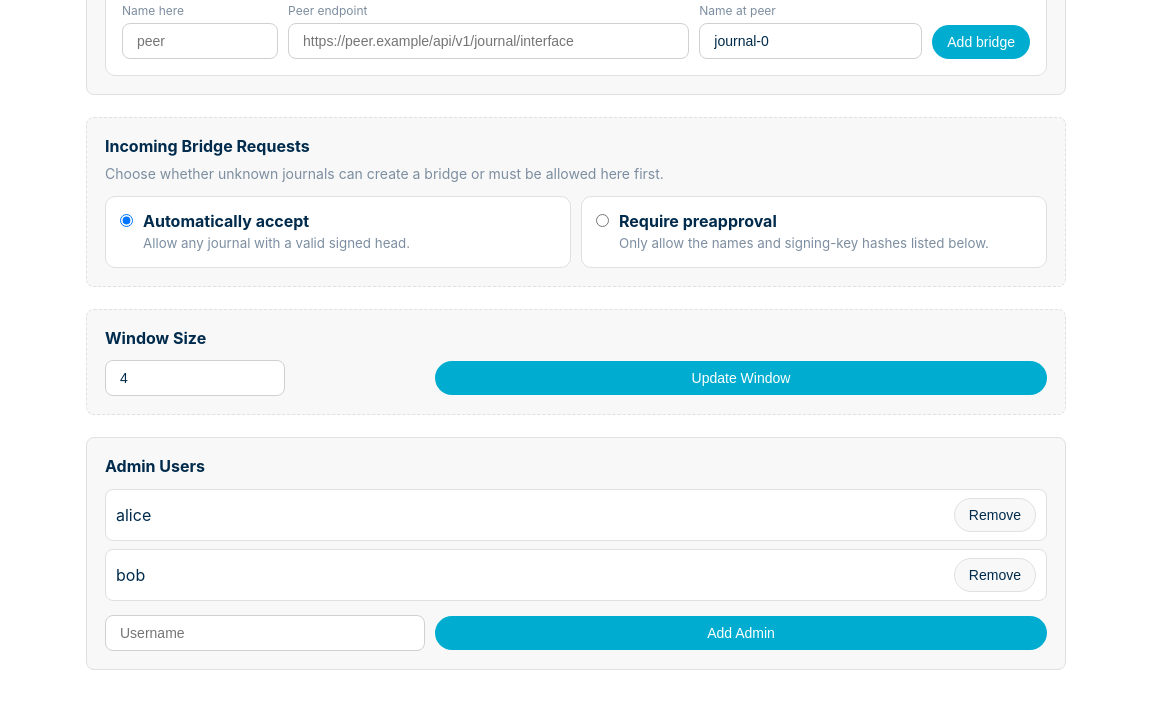
Test: AdminPanel › confirms self-removal when another administrator remains
(page scrolled)
Click the button "Remove" in the row of "alice" at [995, 515], box 954,498 -> 1036,532
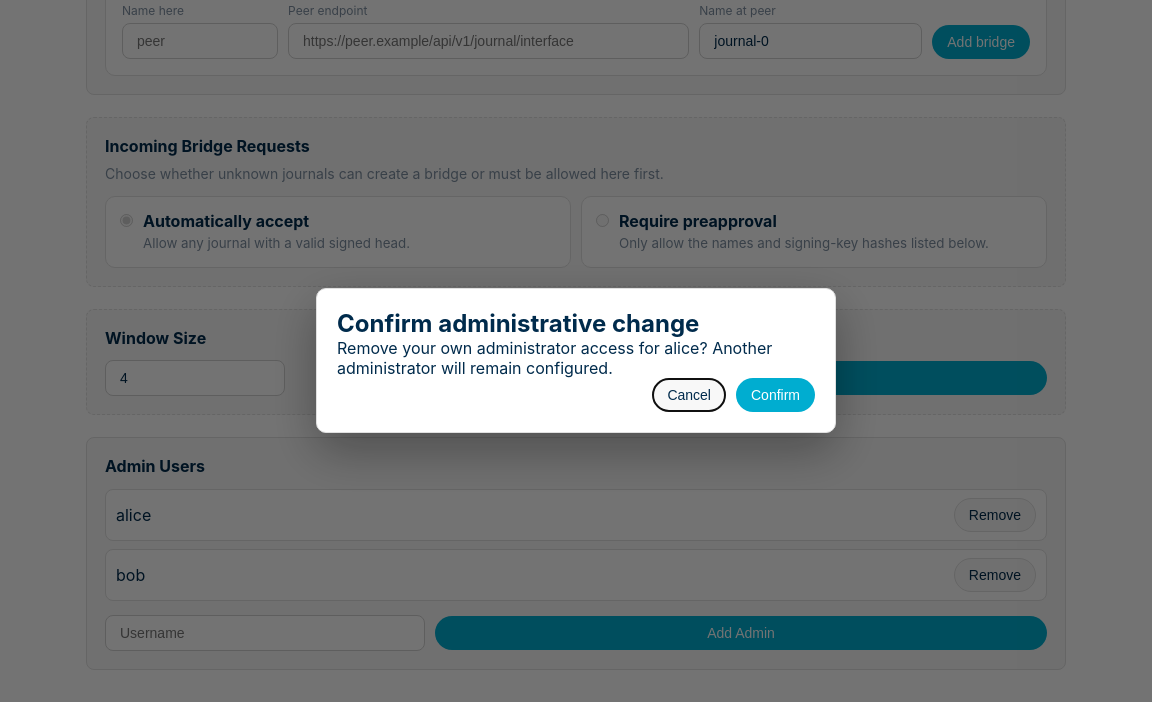
Expected: the dialog shows "Remove your own administrator access for alice? Another administrator will remain configured.", 337,338 -> 772,378
Click the button "Confirm" at [776, 394], box 736,378 -> 815,412
(page scrolled)
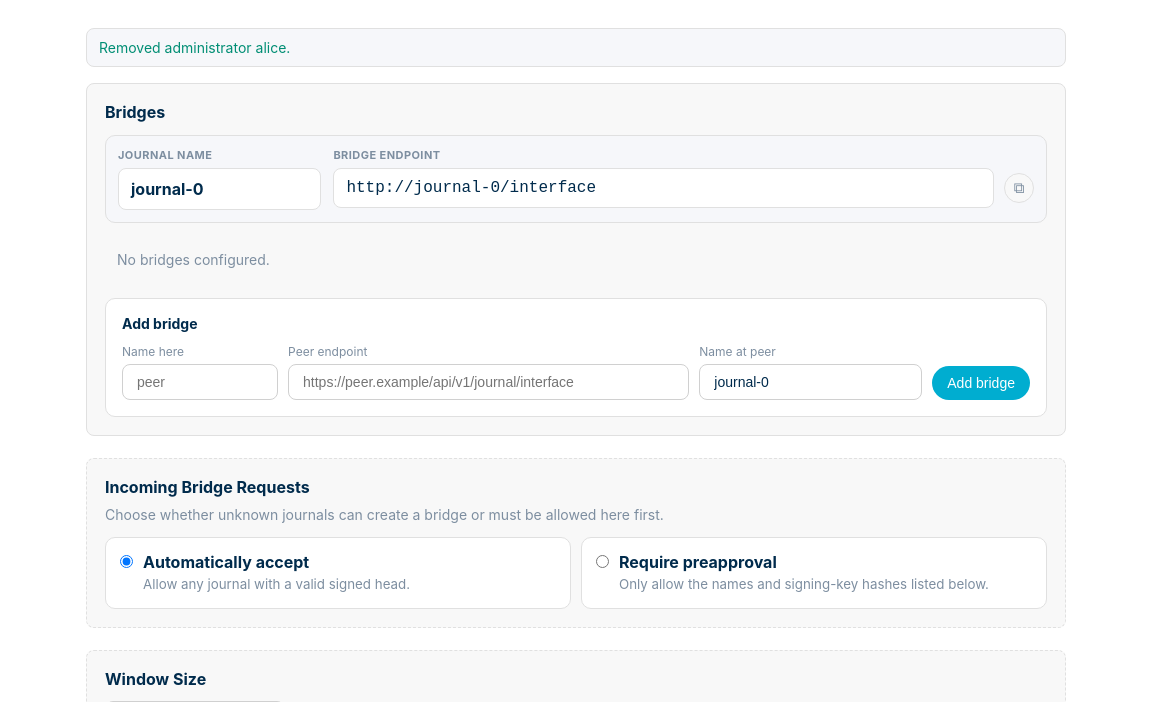
Expected: the text "Removed administrator alice." is shown, 86,28 -> 1066,67
